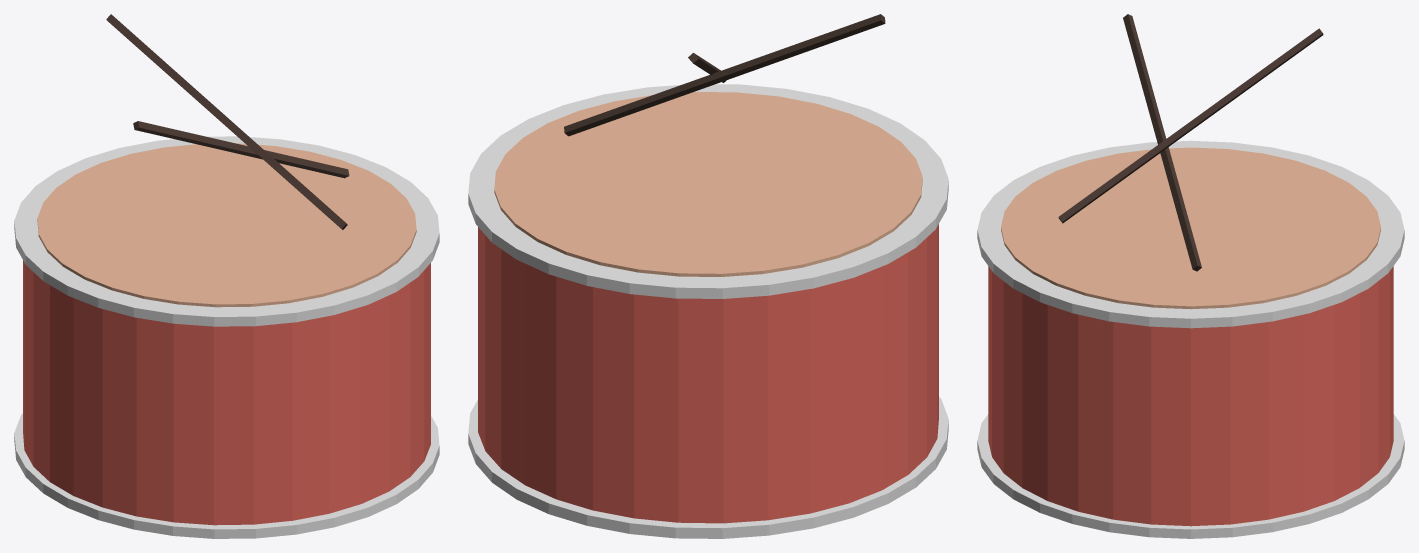
The model's file is Drum.fbx.
The picture shows the model from 3 angles, left to right: view 1: azimuth 30°, elevation 25°; view 2: azimuth 150°, elevation 25°; view 3: azimuth 270°, elevation 25°; orthographic projection. The views are drawn at different scales.
Visible parts, largest first — view 1: Cylinder, Cylinder.001, Cylinder.002, Cylinder.003, Cube, Cube.001; view 2: Cylinder, Cylinder.001, Cylinder.002, Cylinder.003, Cube.001; view 3: Cylinder, Cylinder.001, Cylinder.002, Cylinder.003, Cube, Cube.001.
Boxes of the visible parts, x1,y1,x2,y2 form: Cylinder: [23, 260, 430, 525]; Cylinder.001: [37, 143, 416, 307]; Cylinder.002: [14, 136, 439, 326]; Cylinder.003: [14, 413, 439, 538]; Cube: [106, 14, 347, 229]; Cube.001: [133, 121, 349, 178]; Cylinder: [478, 224, 938, 523]; Cylinder.001: [494, 92, 922, 276]; Cylinder.002: [468, 84, 948, 298]; Cylinder.003: [468, 397, 948, 538]; Cube.001: [564, 14, 885, 136]; Cylinder: [988, 266, 1393, 526]; Cylinder.001: [1001, 147, 1380, 309]; Cylinder.002: [977, 140, 1404, 328]; Cylinder.003: [977, 414, 1404, 538]; Cube: [1058, 28, 1323, 223]; Cube.001: [1123, 14, 1201, 271].
Bounding box in the file's own units: 208 × 216 × 211.
